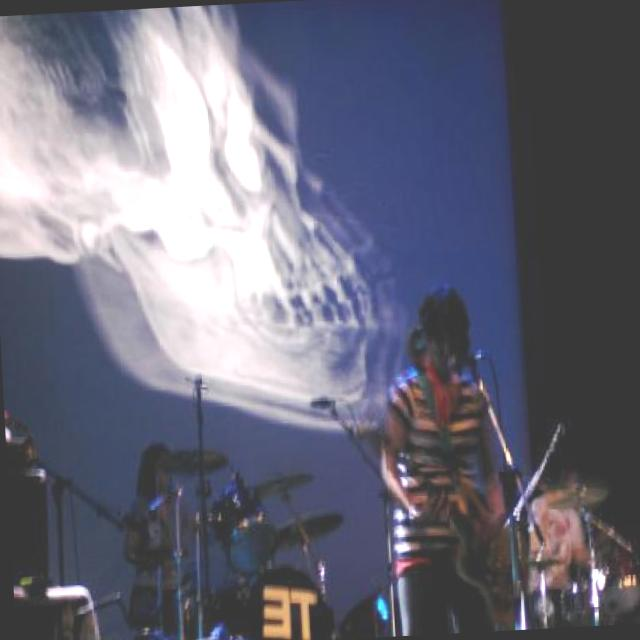Person: (371, 283, 512, 636), (114, 442, 196, 630), (524, 455, 605, 628)
